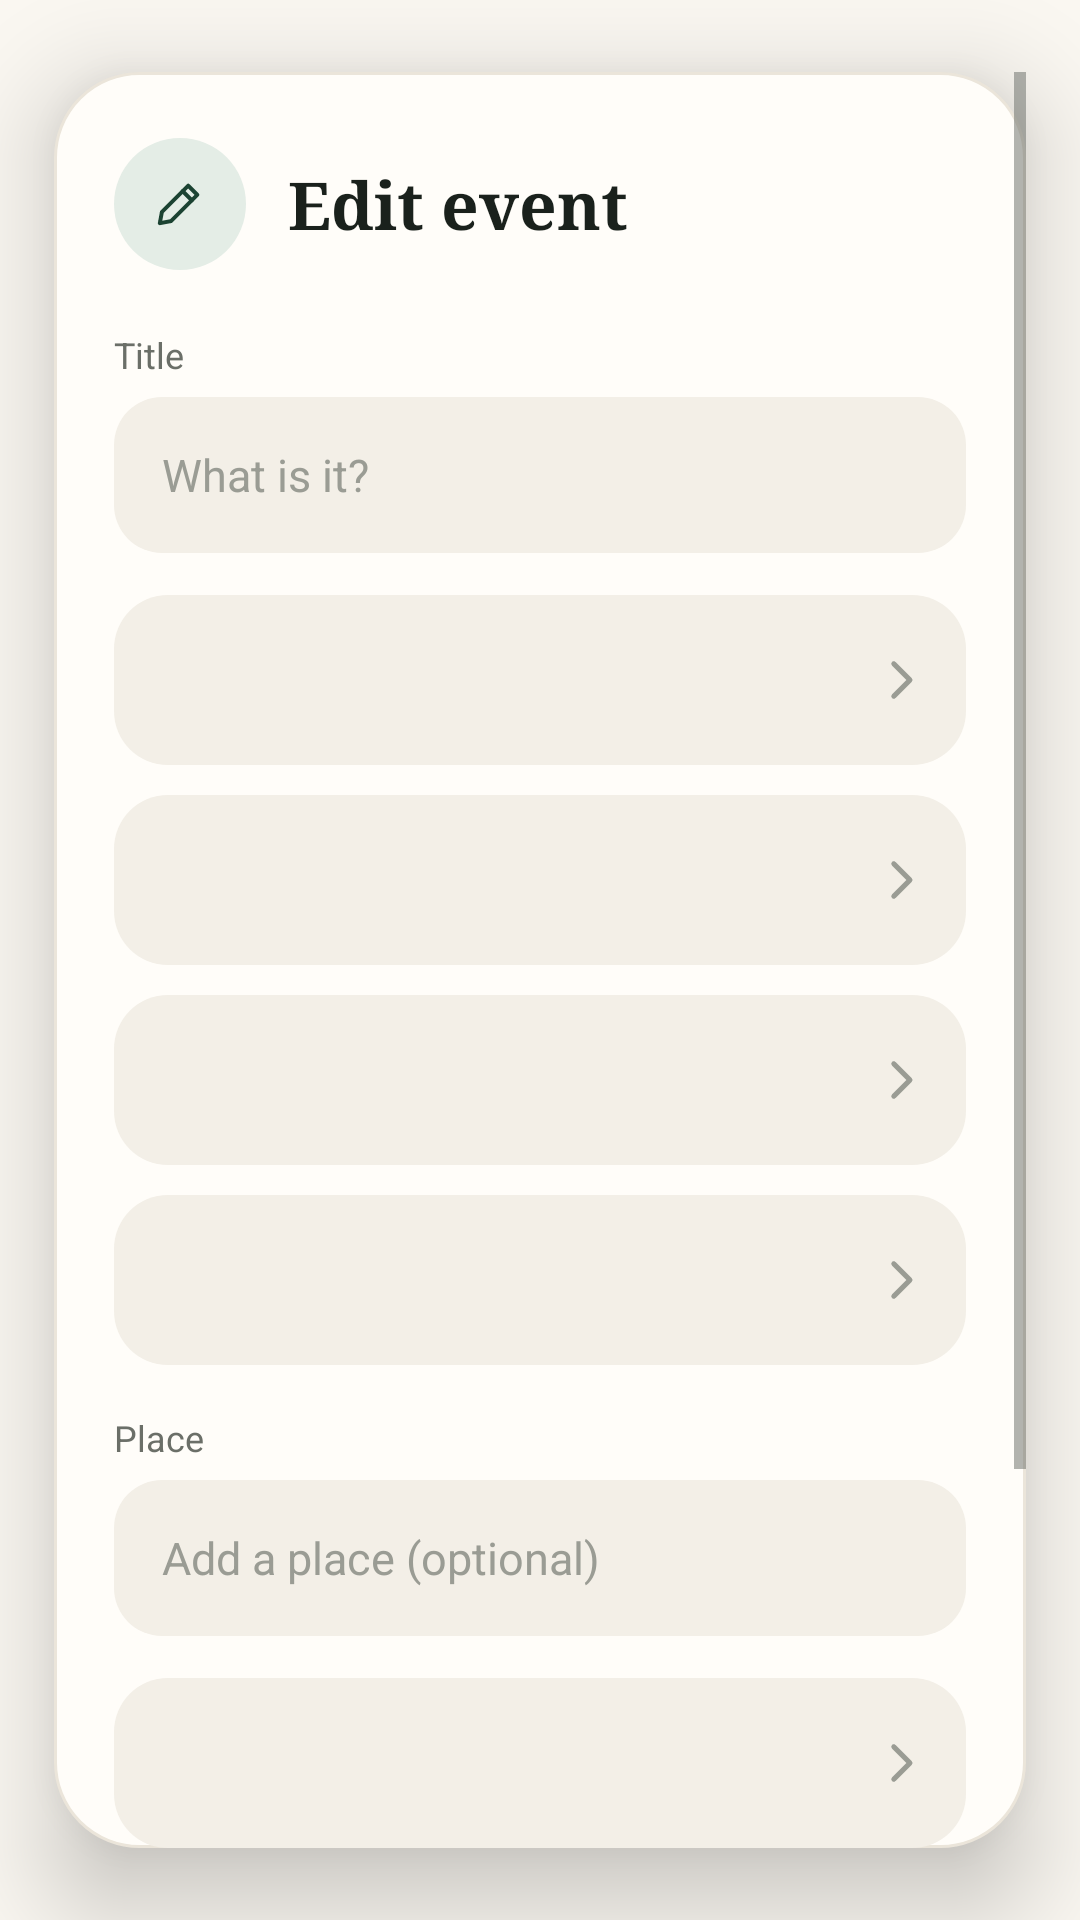

Named icons in this screenshot (1080 × 1920) and their bounding boxes, (x1, y1, x2, y2):
chevron right: (891, 661, 913, 699), (891, 861, 913, 899), (891, 1061, 913, 1099), (891, 1261, 913, 1299), (891, 1744, 913, 1782)
